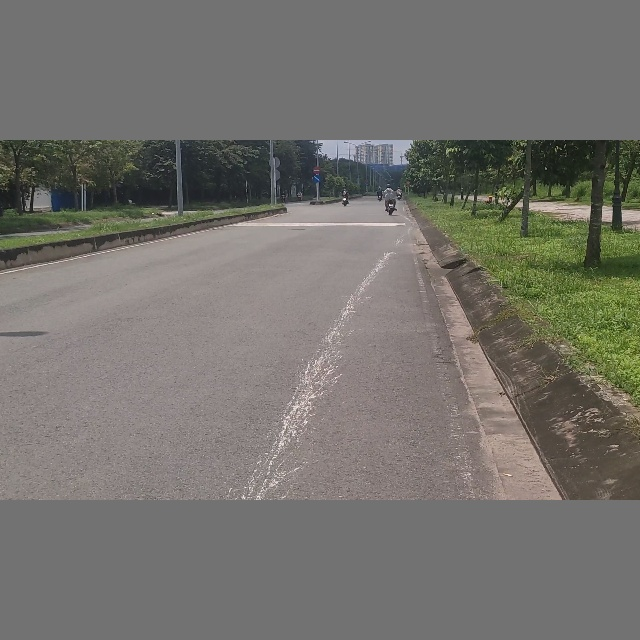P.102: (313, 166, 320, 174)
R.302a: (313, 175, 321, 182)
